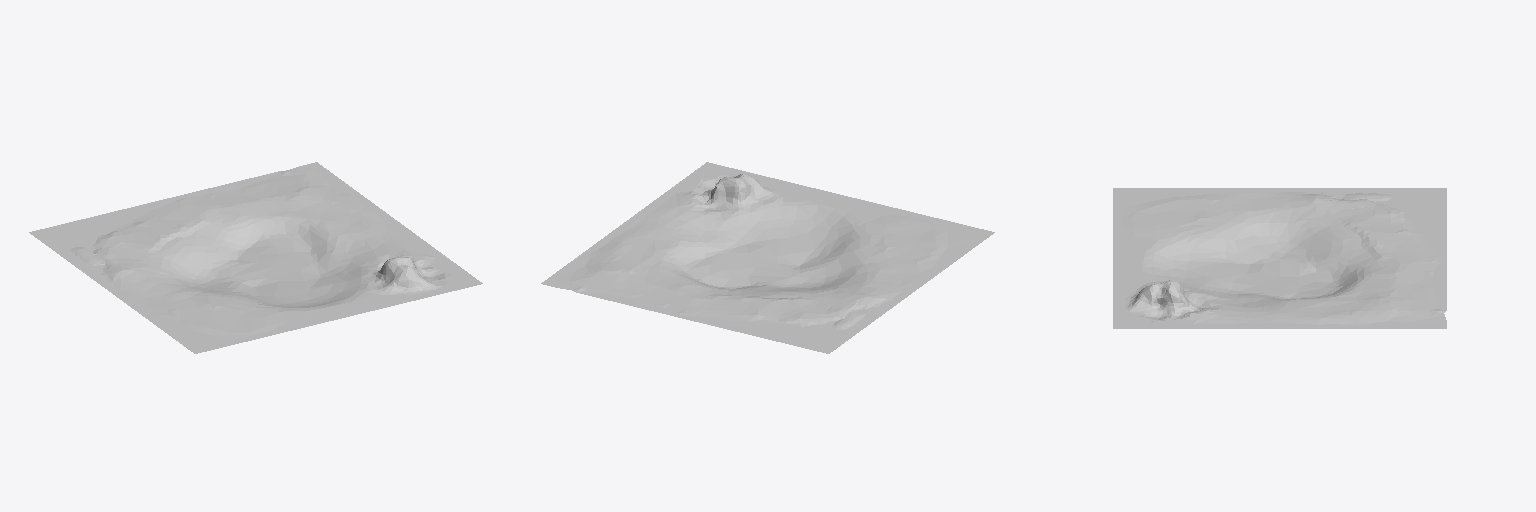
The model's file is PlainLakeWithRockTile0.obj.
3 renders of one model, left to right at view 1: azimuth 30°, elevation 25°; view 2: azimuth 150°, elevation 25°; view 3: azimuth 270°, elevation 25°, orthographic.
Visible parts, largest first — view 1: Tile; view 2: Tile; view 3: Tile.
Boxes of the visible parts, <box> form: Tile: <box>29,162,482,353</box>; Tile: <box>541,162,994,353</box>; Tile: <box>1113,188,1446,328</box>.
Bounding box in the file's own units: 500 × 54.89 × 500.